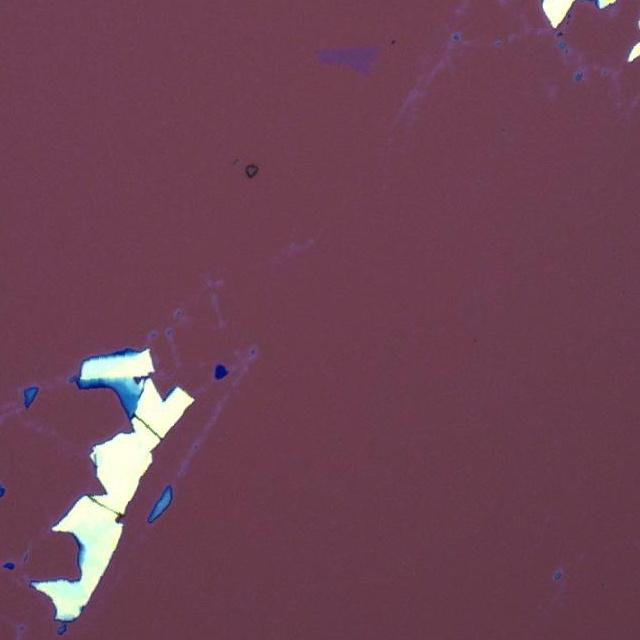monolayer-eWW4: (314, 46, 378, 76)
